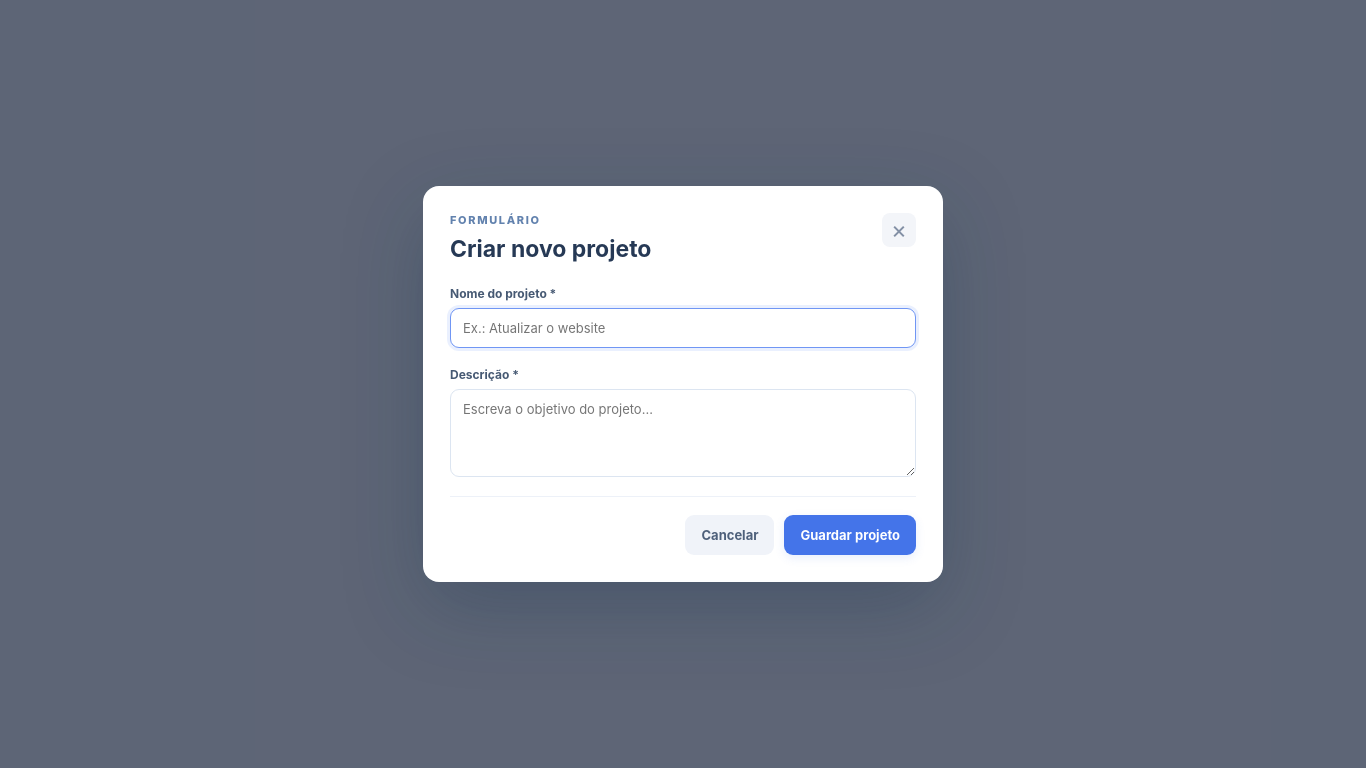
Test: Formulário de projeto › mostra erros em campos inválidos e não guarda
The image size is (1366, 768).
Click the button "Guardar projeto" at (850, 535), box [784, 515, 916, 555]
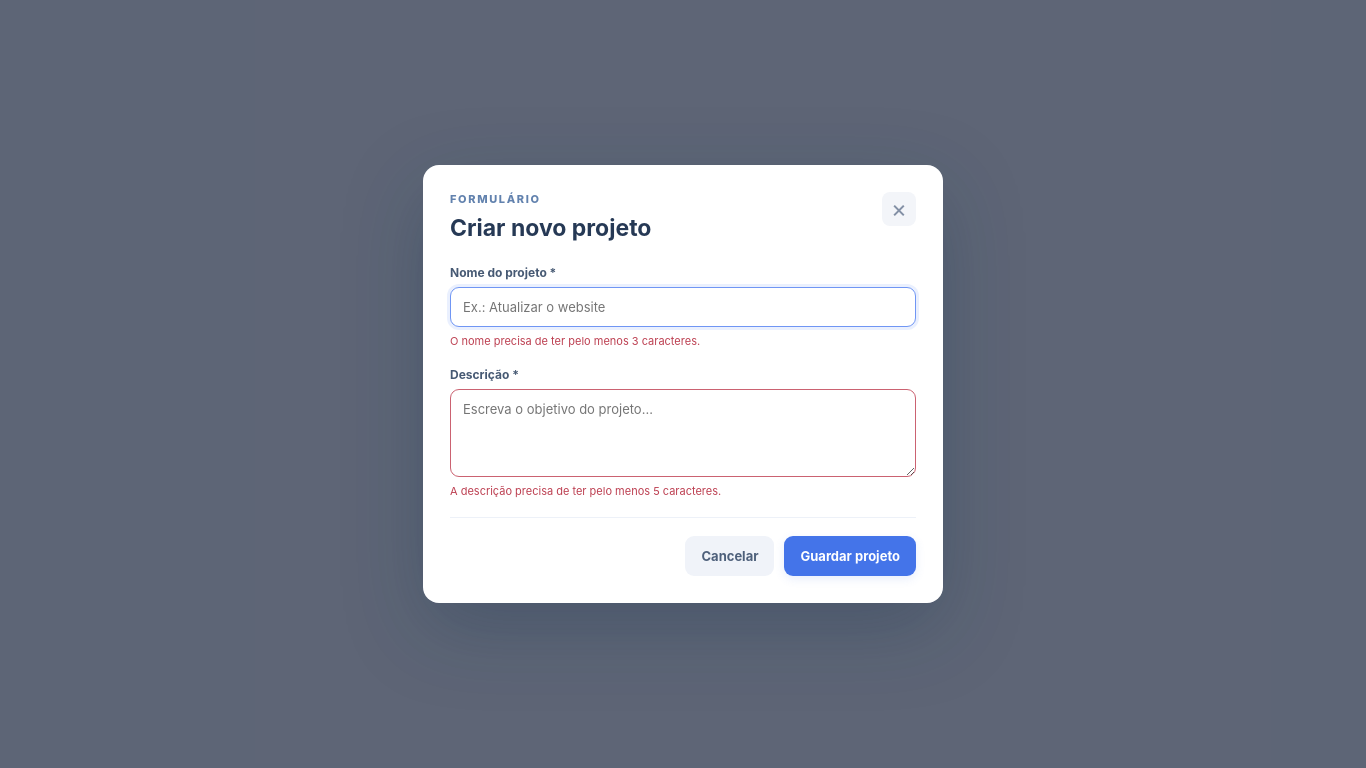
Check: the text "O nome precisa de ter pelo menos 3 caracteres." is shown, box [450, 334, 700, 348]
Check: the text "A descrição precisa de ter pelo menos 5 caracteres." is shown, box [450, 484, 721, 498]
